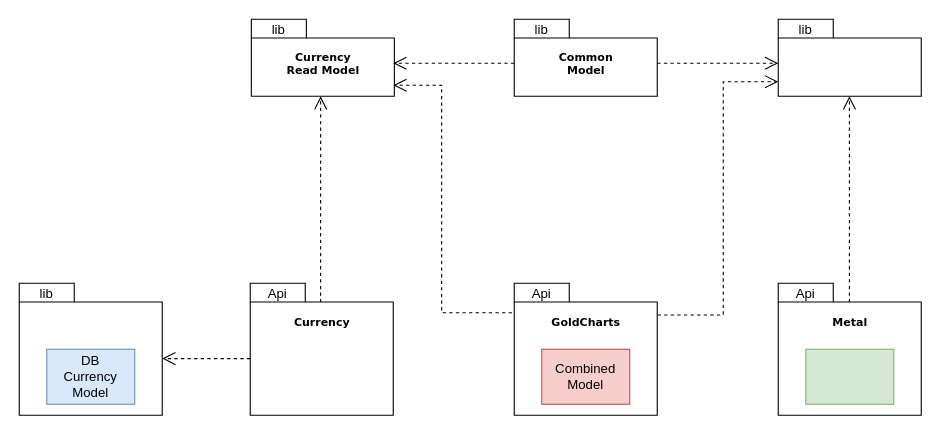
The diagram is 941 pixels wide and 435 high, and some of its shapes have lost their labels. The box of each missing label's shape, as (x1, y1, x2, y2) in pixels:
3rd party Metal Model: (805, 348, 894, 404)
DB Common: (18, 282, 162, 415)
Metal Read Model: (777, 18, 921, 96)
